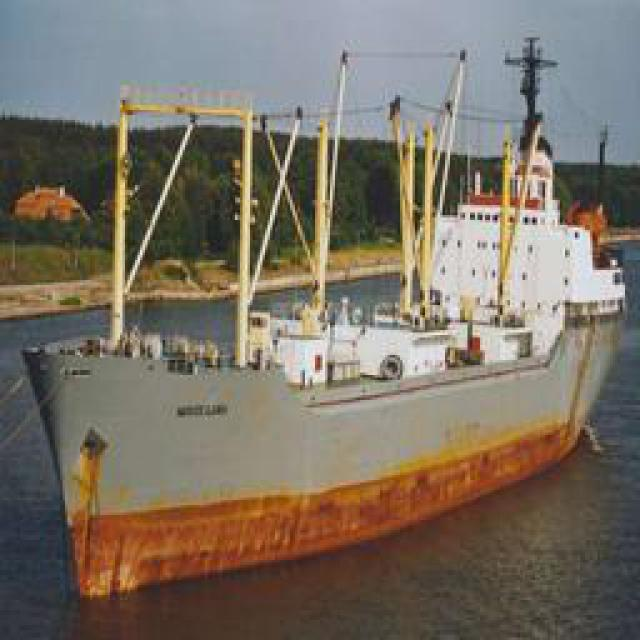Ship: (15, 14, 618, 629)
